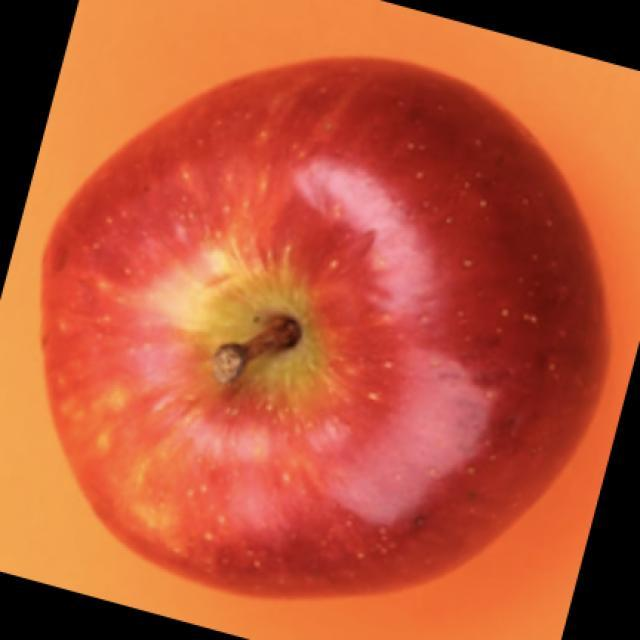Apple: (38, 54, 610, 599)
